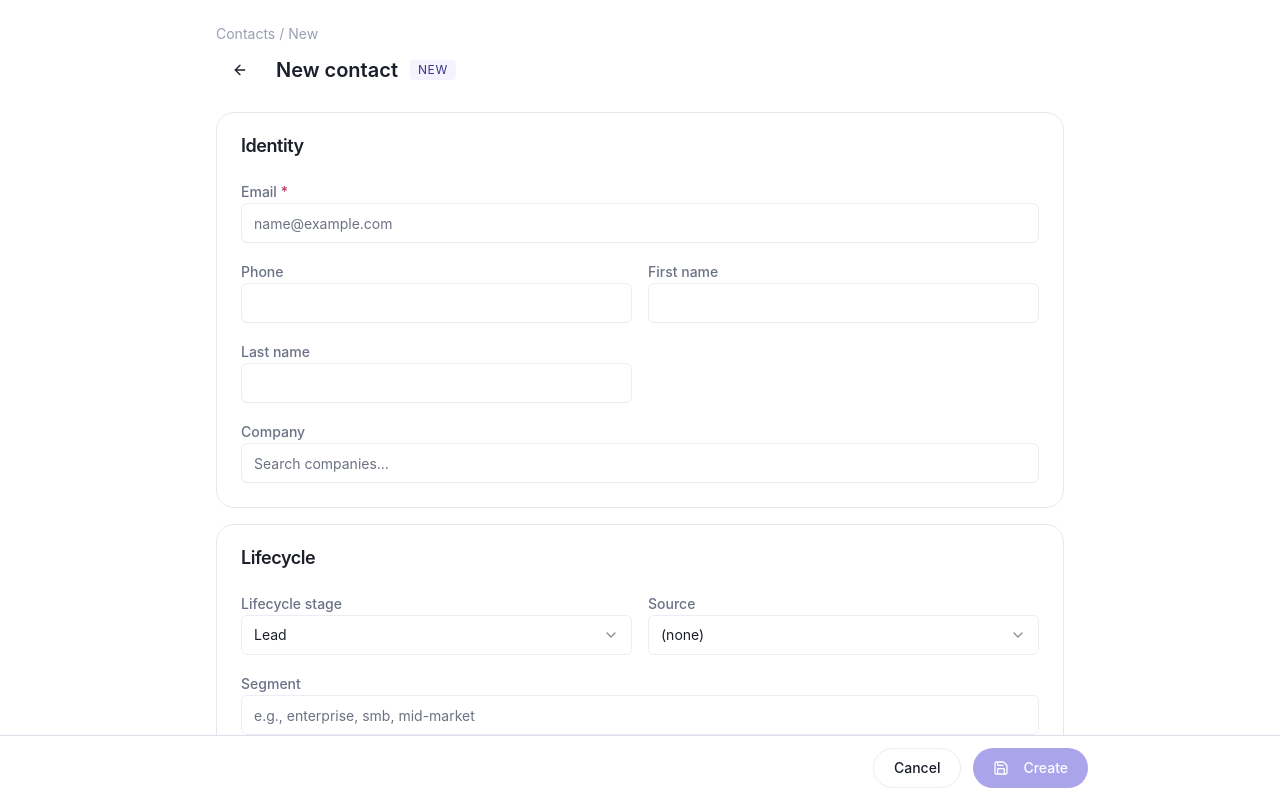
it: KAN-934 — ContactForm › (6) Email format: invalid → Save click shows format error
Type "not-an-email" into the field labelled "Email *" at (640, 223), box [241,203,1039,243]
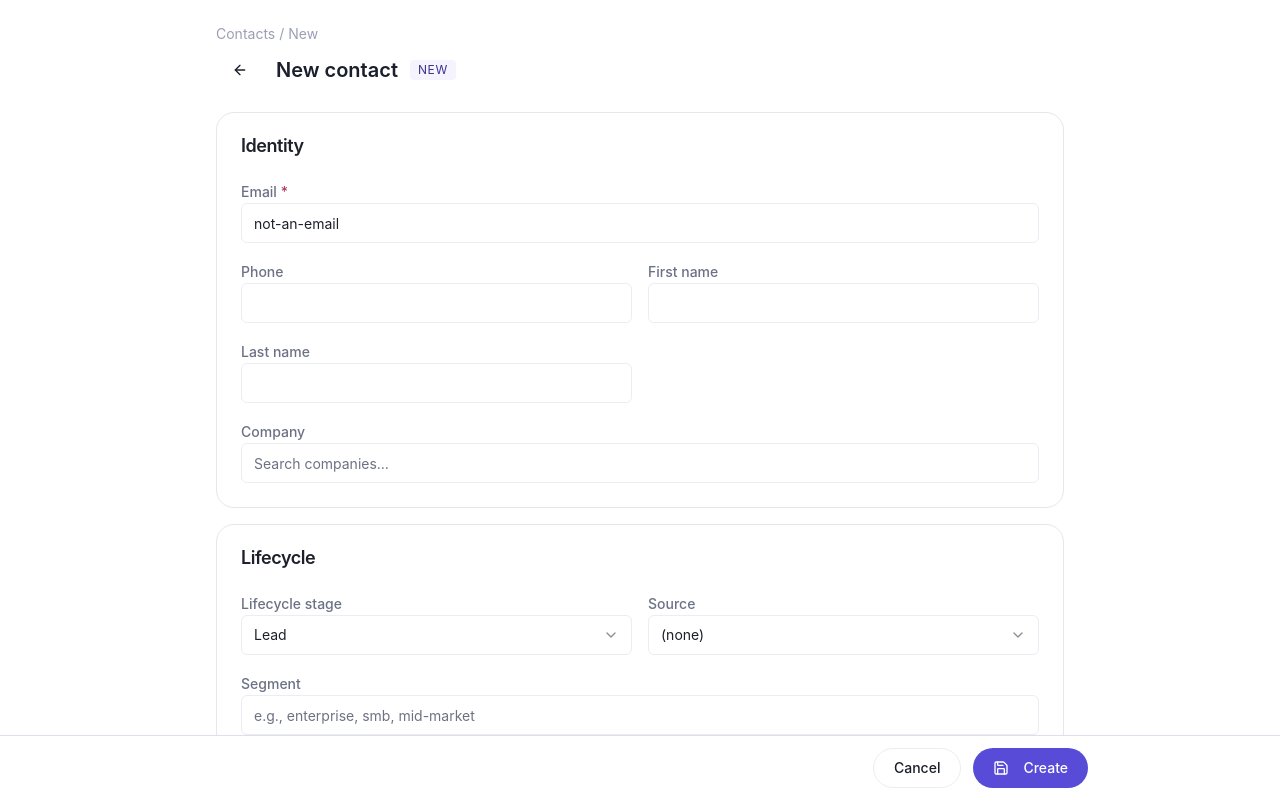
Click the button "Create" at (1031, 768), box [973,748,1088,788]
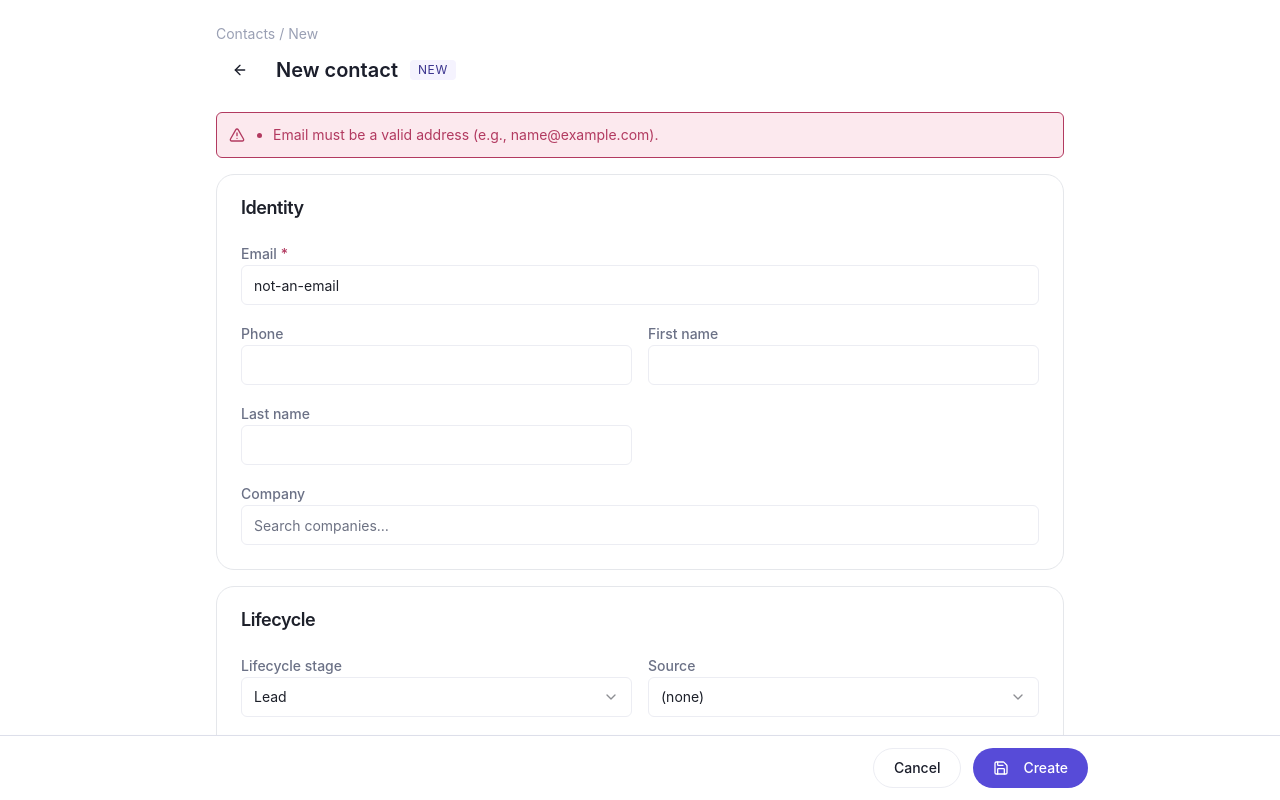
Expected: the list item "Email must be a valid address (e.g., name@example.com)." is shown, [273,125,658,145]
